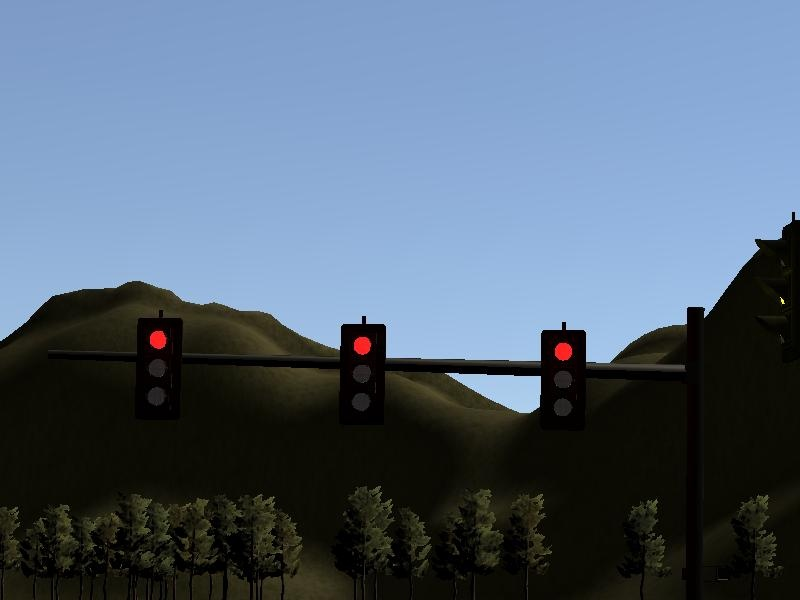RED: (138, 317, 183, 420), (340, 323, 385, 426), (539, 330, 584, 433)
